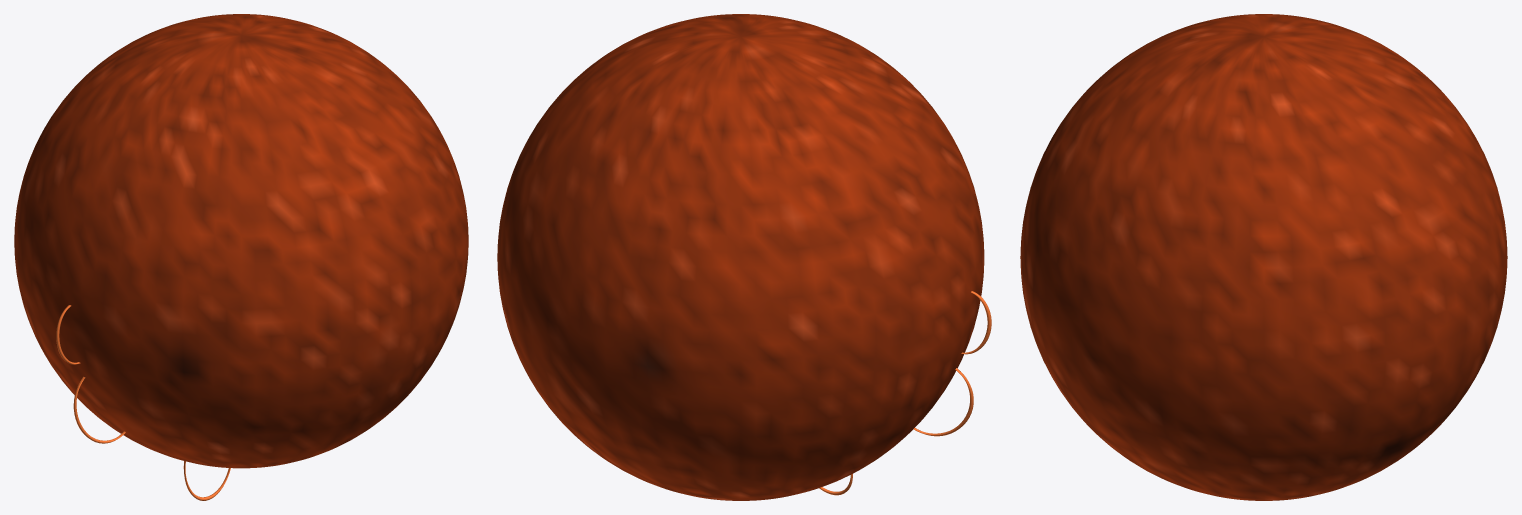
Rendered from Star_41.fbx.
3 renders of one model, left to right at view 1: azimuth 30°, elevation 25°; view 2: azimuth 150°, elevation 25°; view 3: azimuth 270°, elevation 25°, orthographic. The views are drawn at different scales.
Parts seen in each view (by area): view 1: Star_41; view 2: Star_41; view 3: Star_41.
Boxes of the visible parts, <box> form: Star_41: <box>14,14,468,500</box>; Star_41: <box>497,14,991,500</box>; Star_41: <box>1020,14,1507,500</box>.
Bounding box in the file's own units: 206 × 209 × 200.
